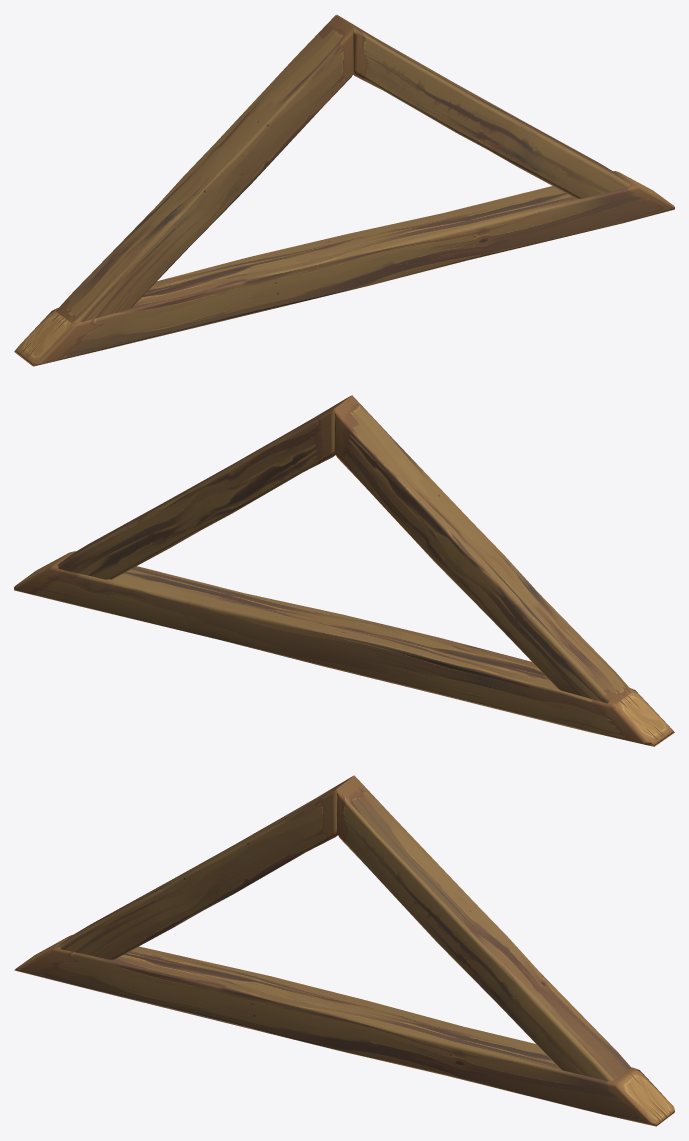
Rendered from SM_MOD_wall_triangle_frame_town.fbx.
3 renders of one model, top to bottom at view 1: azimuth 30°, elevation 25°; view 2: azimuth 150°, elevation 25°; view 3: azimuth 330°, elevation 25°, orthographic.
Parts seen in each view (by area): view 1: SM_MOD_wall_triangle_frame_town_LOD0; view 2: SM_MOD_wall_triangle_frame_town_LOD0; view 3: SM_MOD_wall_triangle_frame_town_LOD0.
Part boxes in pixels (x1,y1,x2,y2): SM_MOD_wall_triangle_frame_town_LOD0: (14, 15, 674, 366); SM_MOD_wall_triangle_frame_town_LOD0: (14, 395, 674, 746); SM_MOD_wall_triangle_frame_town_LOD0: (14, 775, 674, 1126).
Size of what is drawn, in the model's own units: 399 by 154 by 26.14.
